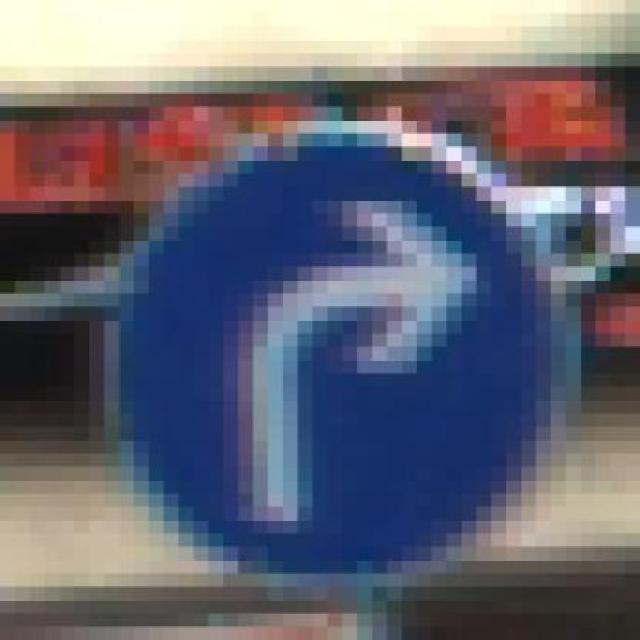Turn right ahead: (90, 119, 596, 587)
